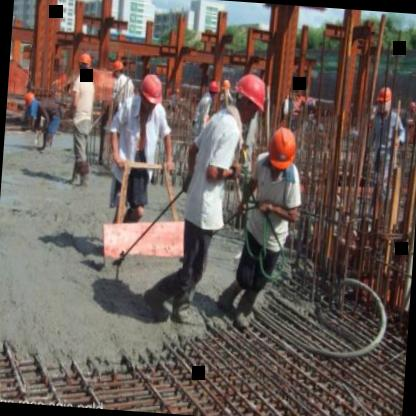helmet: (232, 72, 266, 126), (267, 125, 299, 171), (136, 69, 165, 113), (376, 84, 396, 115), (77, 49, 94, 76), (111, 58, 127, 82), (207, 78, 222, 102), (23, 89, 38, 110)
